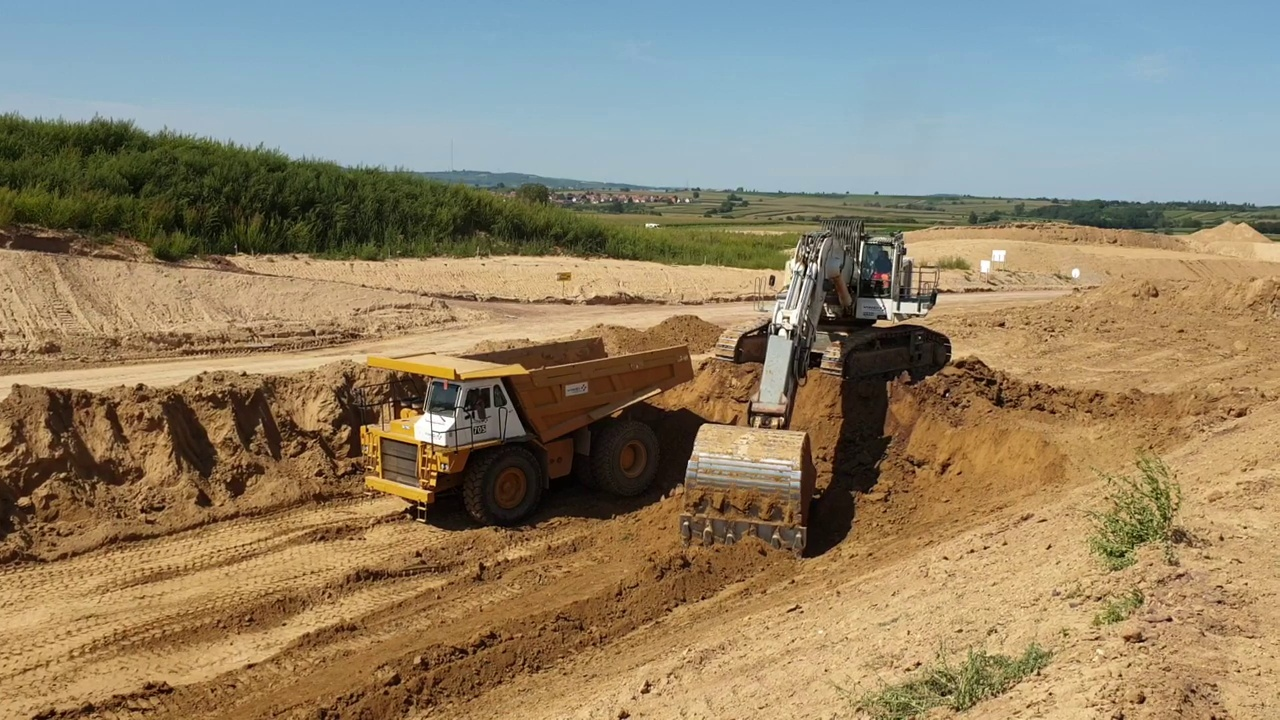excavator: (685, 221, 953, 555)
truck: (357, 333, 691, 531)
